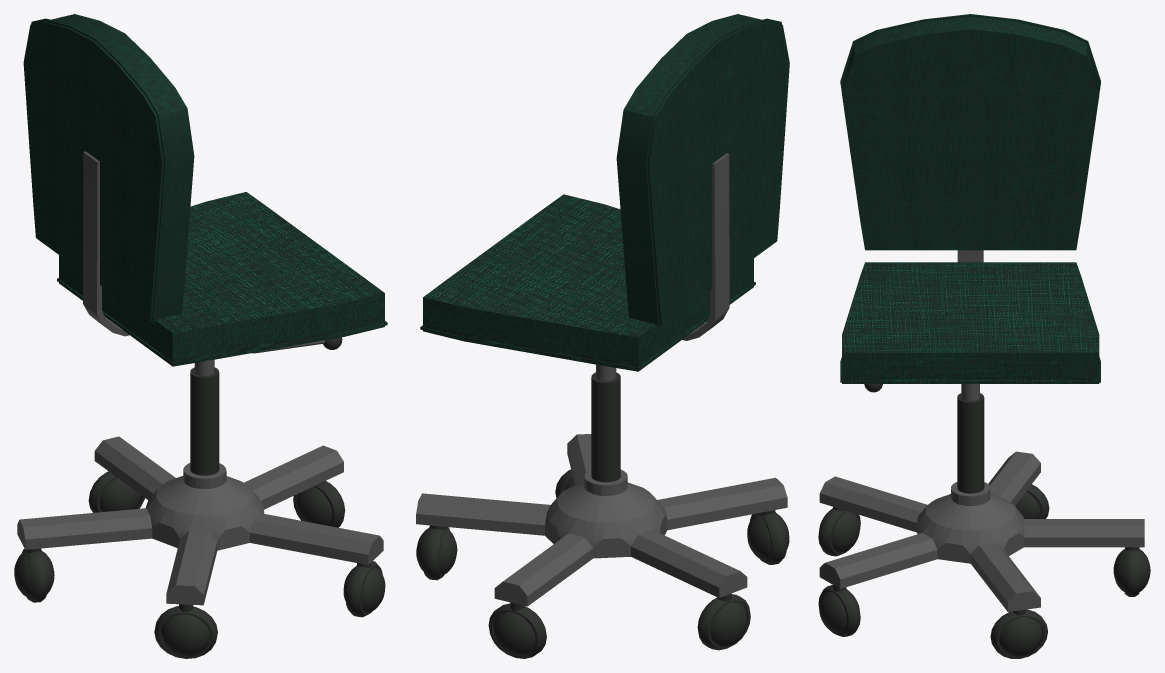
File: Chair.fbx
The picture shows the model from 3 angles, left to right: view 1: azimuth 30°, elevation 25°; view 2: azimuth 150°, elevation 25°; view 3: azimuth 270°, elevation 25°; orthographic projection. The views are drawn at different scales.
Visible parts, largest first — view 1: Seat1, Seat, MainWheelStuff, StolStangUnder, BagStang, Wheel4, Wheel5, Wheel2, Wheel3, Wheel1; view 2: Seat1, Seat, MainWheelStuff, BagStang, StolStangUnder, Wheel1, Wheel3, Wheel4, Wheel2; view 3: Seat1, Seat, MainWheelStuff, StolStangUnder, Wheel2, Wheel5, Wheel4, Wheel1, Wheel3.
Part boxes in pixels (box(x1,y1,x2,y2)): Seat1: box(23, 14, 194, 322); Seat: box(57, 192, 387, 366); MainWheelStuff: box(17, 436, 383, 605); StolStangUnder: box(190, 367, 219, 475); BagStang: box(83, 151, 129, 336); Wheel4: box(154, 604, 217, 658); Wheel5: box(343, 561, 385, 617); Wheel2: box(293, 481, 345, 527); Wheel3: box(14, 548, 54, 602); Wheel1: box(88, 471, 144, 512); Seat1: box(616, 14, 789, 326); Seat: box(420, 194, 755, 371); MainWheelStuff: box(416, 434, 787, 606); BagStang: box(682, 153, 729, 340); StolStangUnder: box(591, 372, 620, 482); Wheel1: box(488, 602, 546, 658); Wheel3: box(697, 593, 750, 650); Wheel4: box(747, 510, 789, 564); Wheel2: box(416, 525, 457, 580); Seat1: box(840, 14, 1100, 250); Seat: box(840, 262, 1100, 383); MainWheelStuff: box(819, 451, 1144, 611); StolStangUnder: box(957, 393, 984, 493); Wheel2: box(990, 609, 1047, 658); Wheel5: box(818, 585, 860, 636); Wheel4: box(818, 507, 860, 556); Wheel1: box(1113, 547, 1150, 596); Wheel3: box(1015, 484, 1049, 518).
Bounding box in the file's own units: 55.91 × 95.34 × 54.1.
